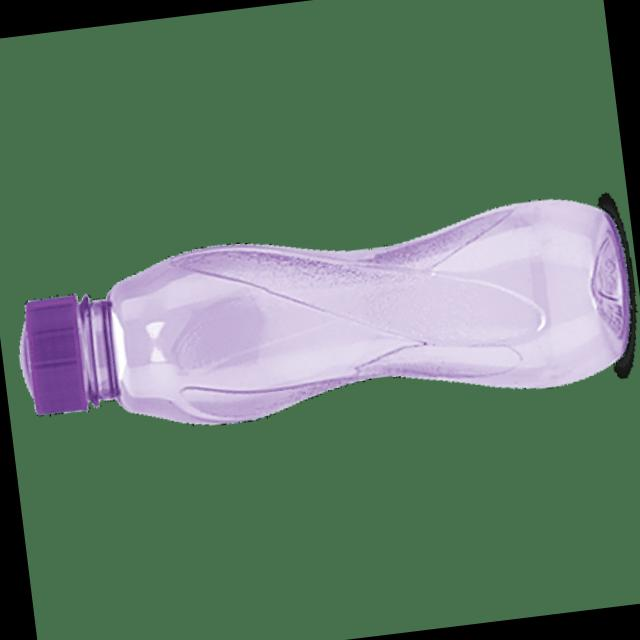plastic_bottle: (0, 155, 640, 453)
